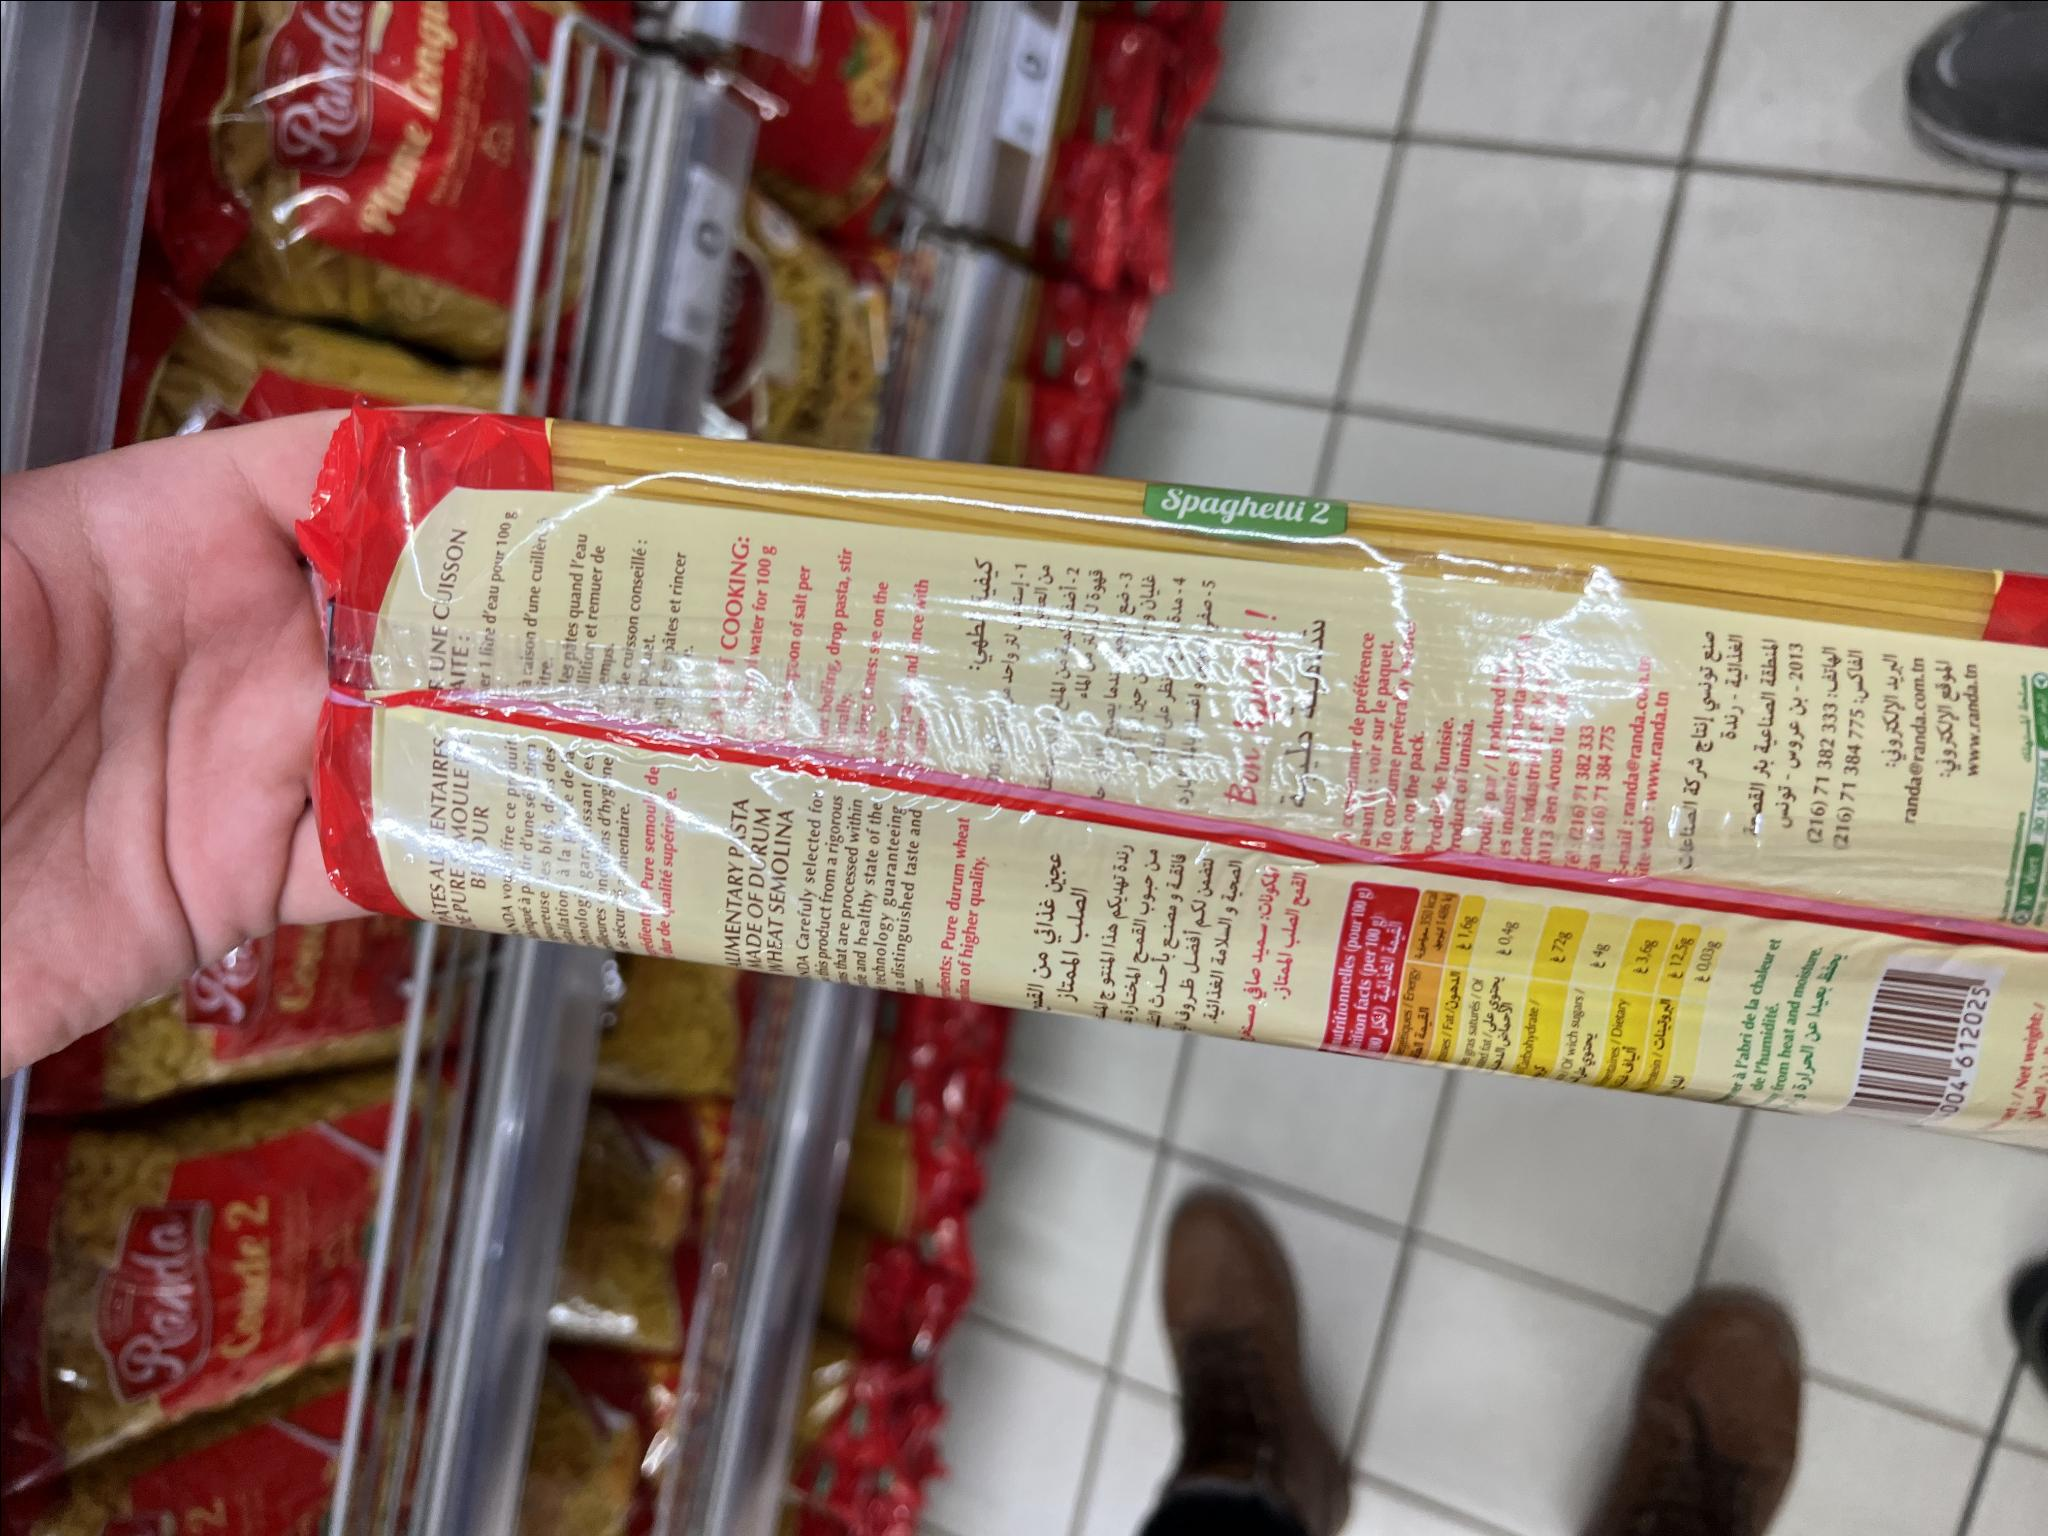Spaghetti: (347, 416, 2040, 1141)
